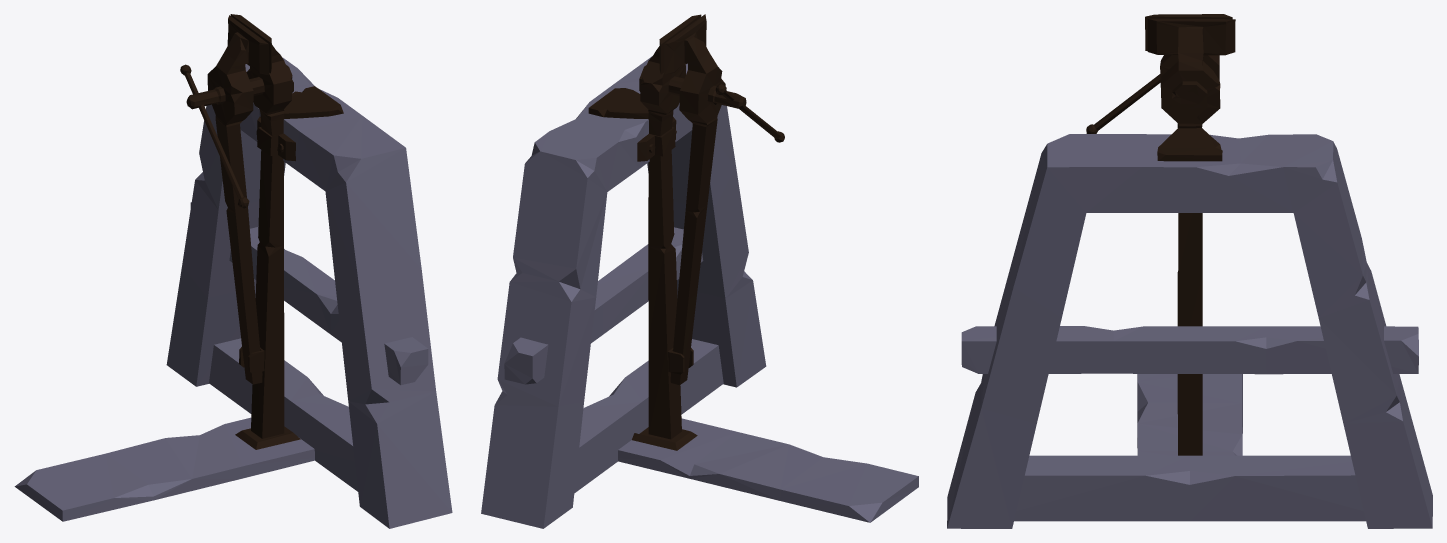
File: SFFA_Forge_Tool.fbx
3 renders of one model, left to right at view 1: azimuth 30°, elevation 25°; view 2: azimuth 150°, elevation 25°; view 3: azimuth 270°, elevation 25°, orthographic. The views are drawn at different scales.
Parts seen in each view (by area): view 1: SFFA_Forge_Tool; view 2: SFFA_Forge_Tool; view 3: SFFA_Forge_Tool.
Boxes of the visible parts, x1,y1,x2,y2 form: SFFA_Forge_Tool: [14, 14, 452, 528]; SFFA_Forge_Tool: [481, 14, 918, 528]; SFFA_Forge_Tool: [947, 14, 1432, 528].
Bounding box in the file's own units: 95.01 × 128 × 121.
